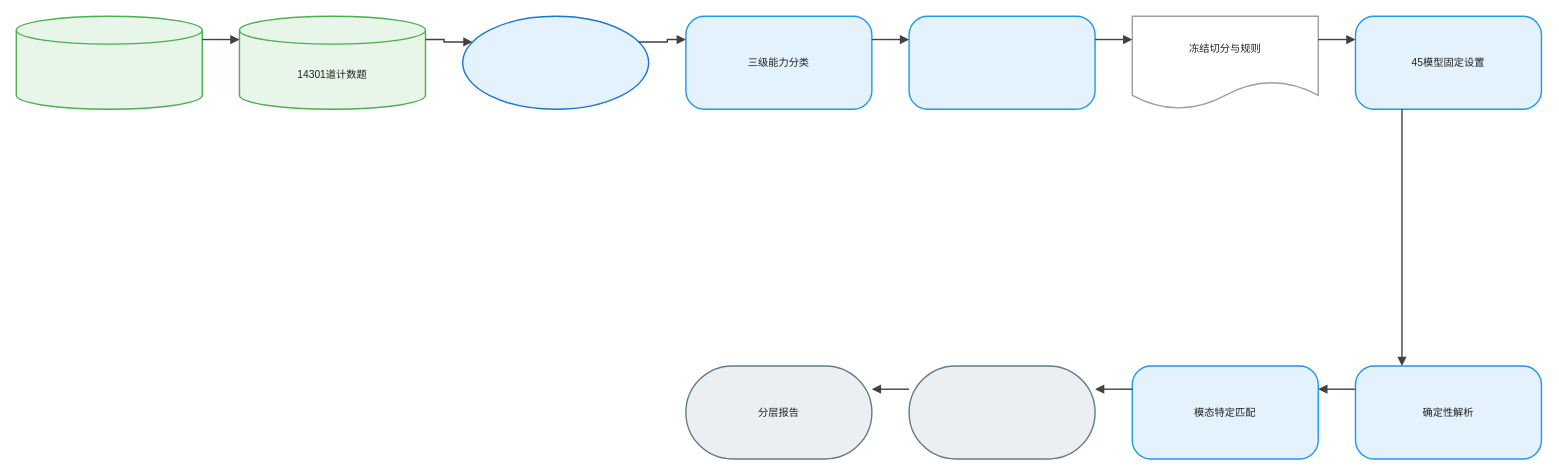
The diagram is 1559 pixels wide and 476 high, and some of its shapes have lost their labels. Each missing label, with the centre of its shape:
"三模态语料" goes at (109,62).
"成功率加误差指标" goes at (1001,412).
"数值真值" goes at (555,62).
"难度标签" goes at (1001,62).
